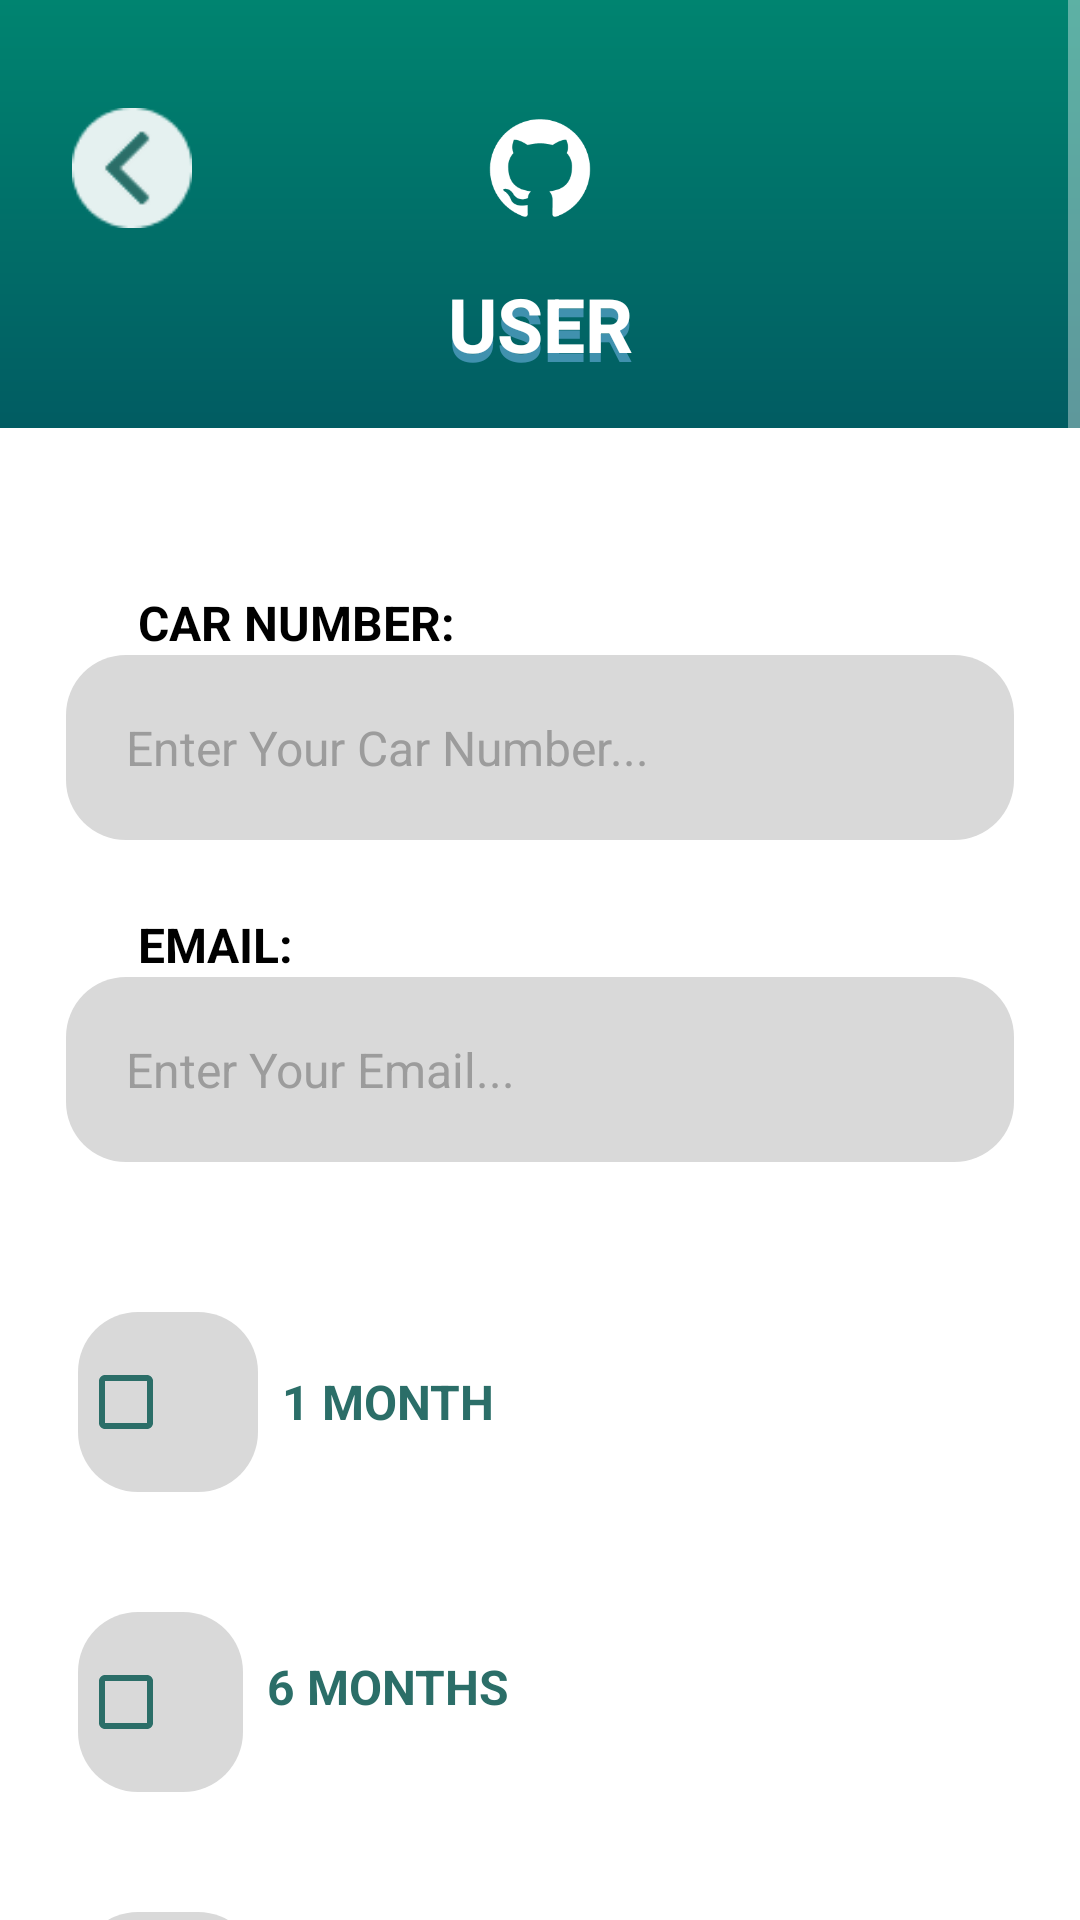

Icon bounding boxes for this 1080 × 1920 phone screenshot, format (x1, y1, x2, y2):
back button: (72, 108, 192, 228)
